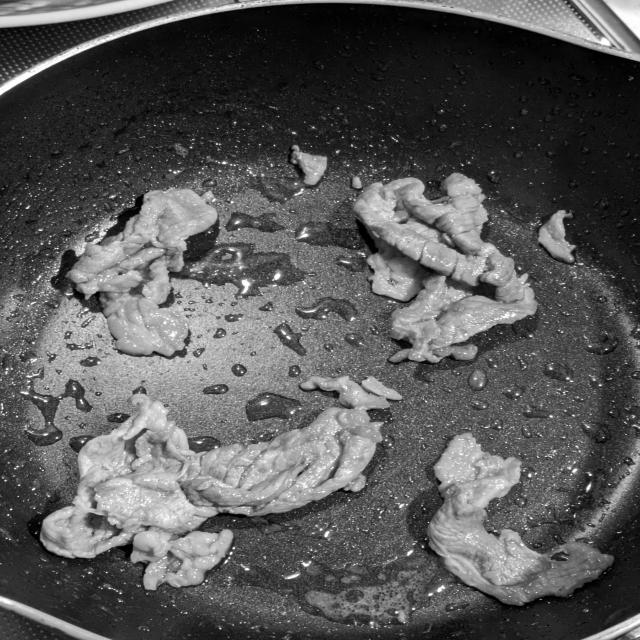OK cooked beef,: (21, 368, 406, 598), (420, 424, 631, 617), (351, 167, 547, 367), (51, 184, 227, 362)
